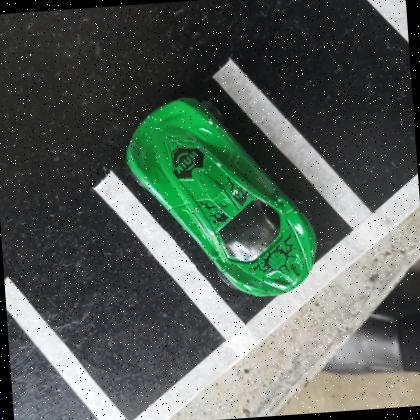Car: (124, 95, 318, 299)
